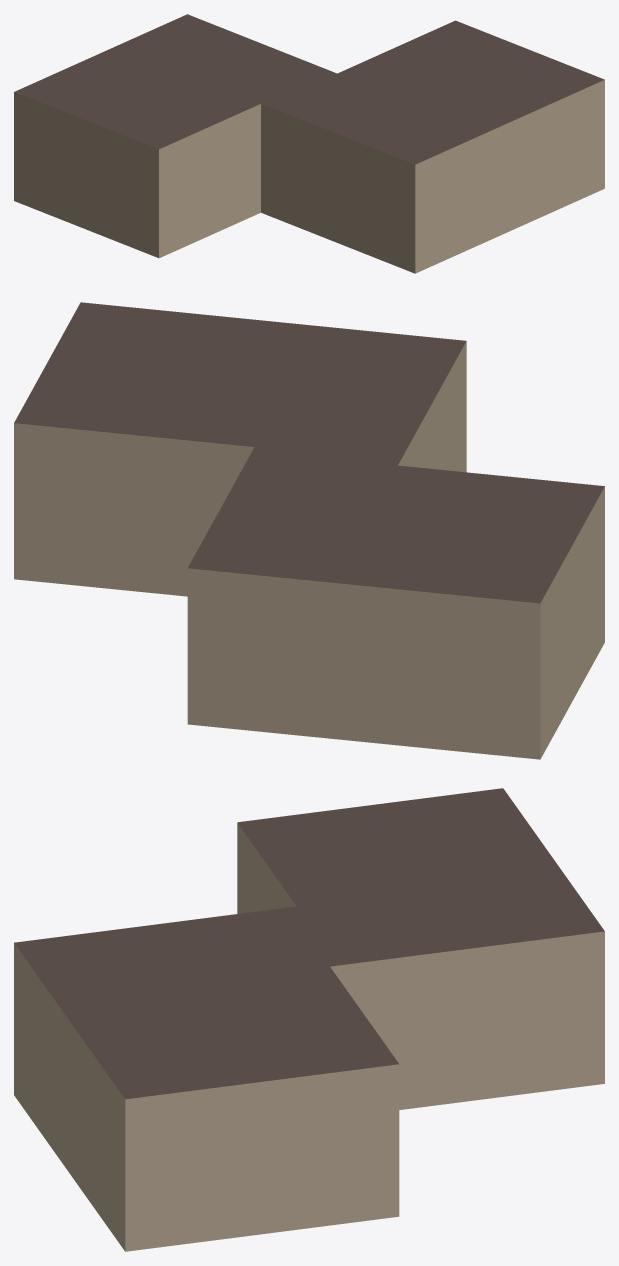
The picture shows the model from 3 angles, top to bottom: view 1: azimuth 30°, elevation 25°; view 2: azimuth 150°, elevation 25°; view 3: azimuth 270°, elevation 25°; orthographic projection. The views are drawn at different scales.
Visible parts, largest first — view 1: HP-w206164653; view 2: HP-w206164653; view 3: HP-w206164653.
Part boxes in pixels (box(x1,y1,x2,y2)): HP-w206164653: box(14, 14, 604, 273); HP-w206164653: box(14, 302, 604, 759); HP-w206164653: box(14, 788, 604, 1251).
Size of the model in its own units: 39.4 by 9 by 31.62.
